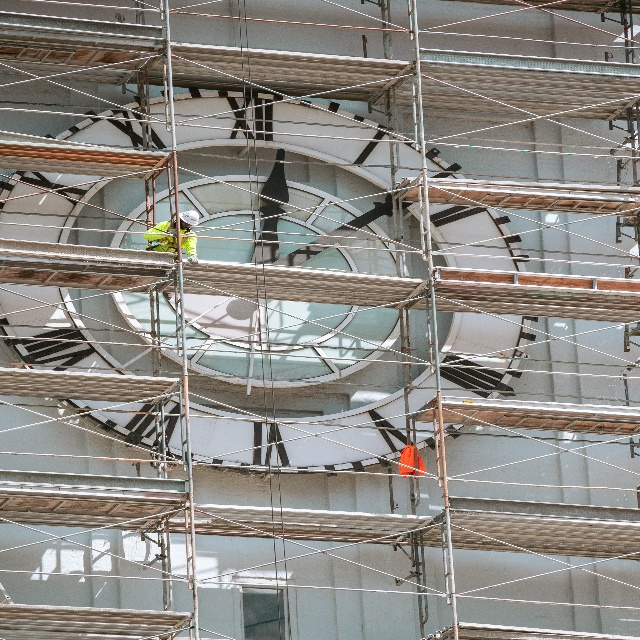Guantes: (187, 253, 198, 266), (169, 228, 177, 234)
